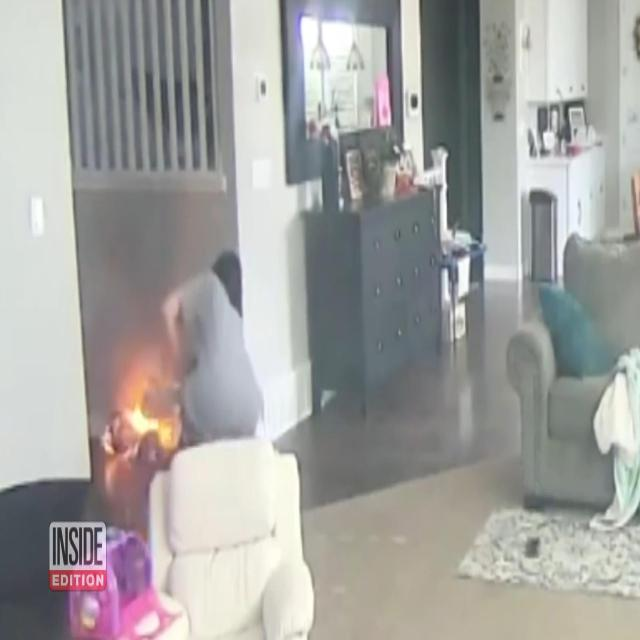fire: (121, 402, 175, 446)
